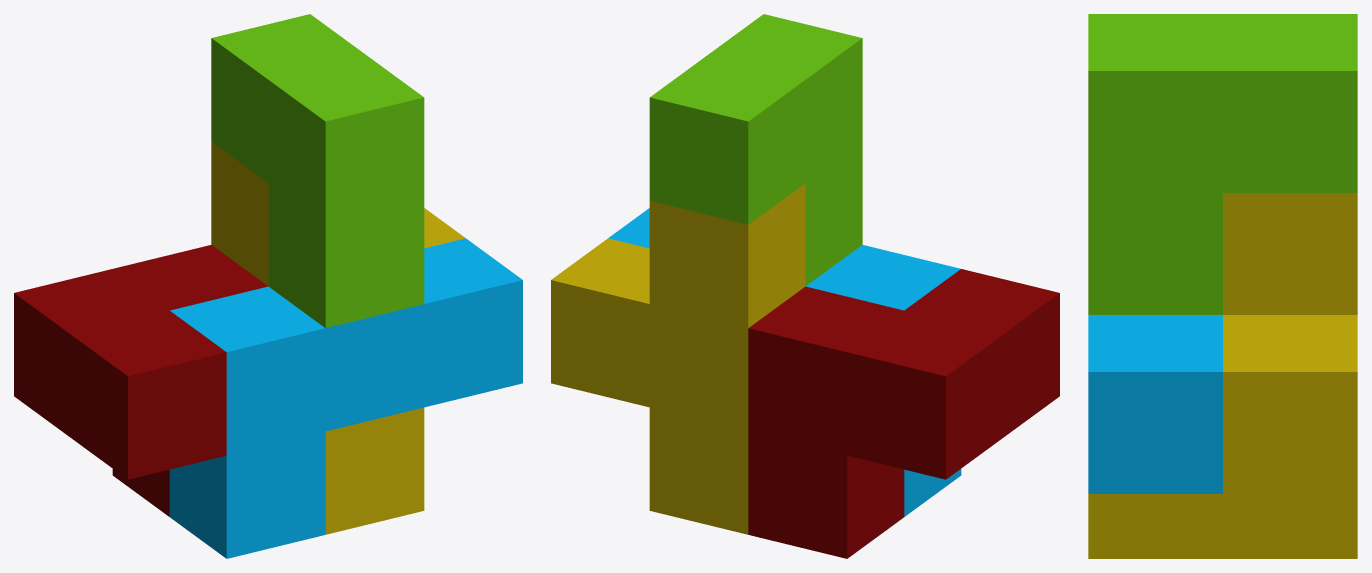
3 renders of one model, left to right at view 1: azimuth 30°, elevation 25°; view 2: azimuth 150°, elevation 25°; view 3: azimuth 270°, elevation 25°, orthographic. The views are drawn at different scales.
Parts seen in each view (by area): view 1: mergedBlocks(Clone); view 2: mergedBlocks(Clone); view 3: mergedBlocks(Clone).
Boxes of the visible parts, <box> form: mergedBlocks(Clone): <box>14,14,522,558</box>; mergedBlocks(Clone): <box>551,14,1059,558</box>; mergedBlocks(Clone): <box>1088,14,1357,558</box>.
Size of the model in its own units: 4 by 4 by 2.
4 materials, 4 textured.
